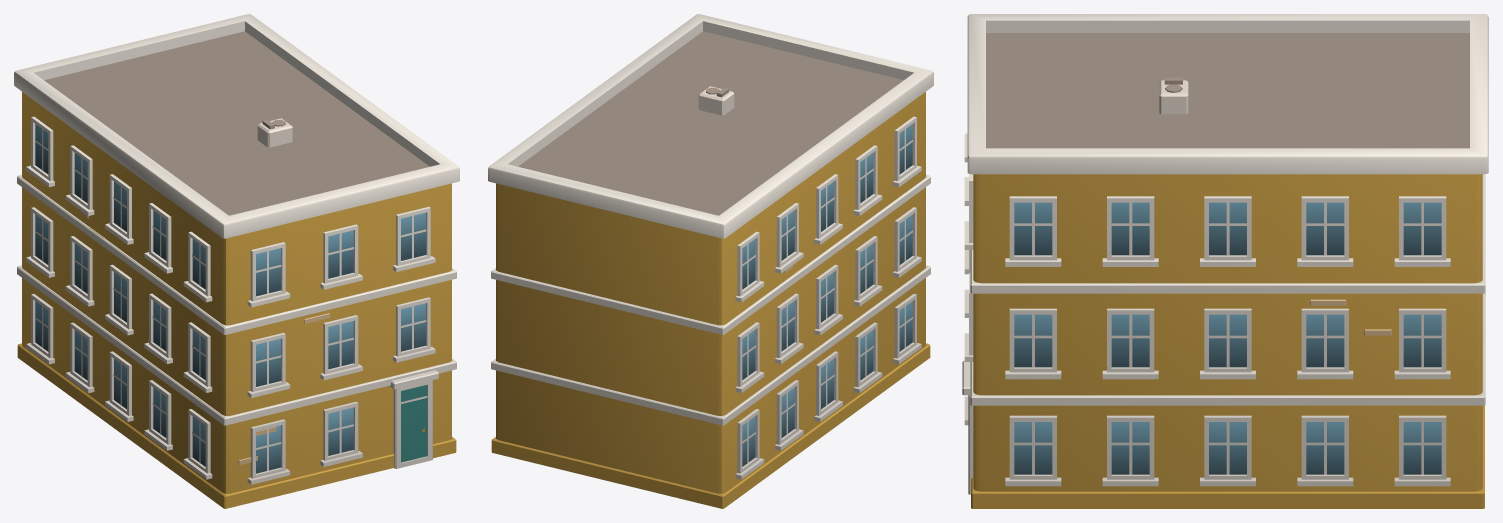
File: boylston_s3.glb
The picture shows the model from 3 angles, left to right: view 1: azimuth 30°, elevation 25°; view 2: azimuth 150°, elevation 25°; view 3: azimuth 270°, elevation 25°; orthographic projection. The views are drawn at different scales.
Parts seen in each view (by area): view 1: boylston_s3; view 2: boylston_s3; view 3: boylston_s3.
Part boxes in pixels (x1,y1,x2,y2): boylston_s3: (14, 14, 459, 508); boylston_s3: (488, 14, 933, 508); boylston_s3: (962, 14, 1488, 508).
Bounding box in the file's own units: 9.48 × 11.11 × 14.46.
Materials: 1 (1 with a texture image).
